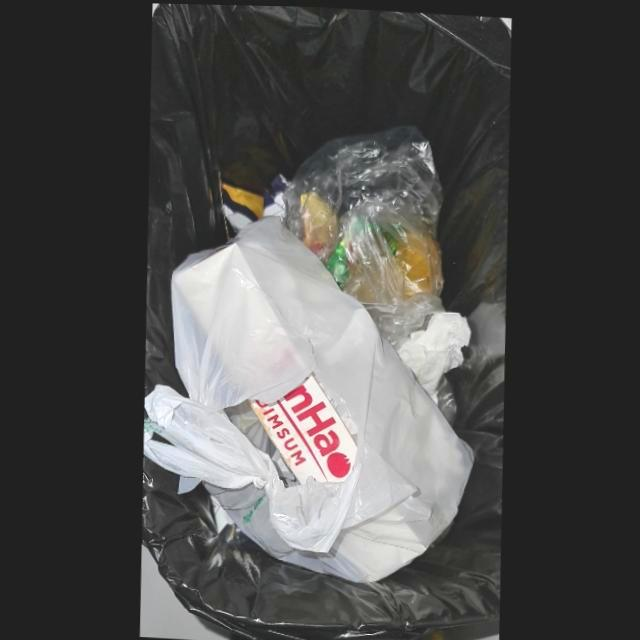cardboard: (246, 373, 355, 483)
food_wrapper: (220, 175, 287, 230)
plastic_bag: (140, 216, 472, 584)
